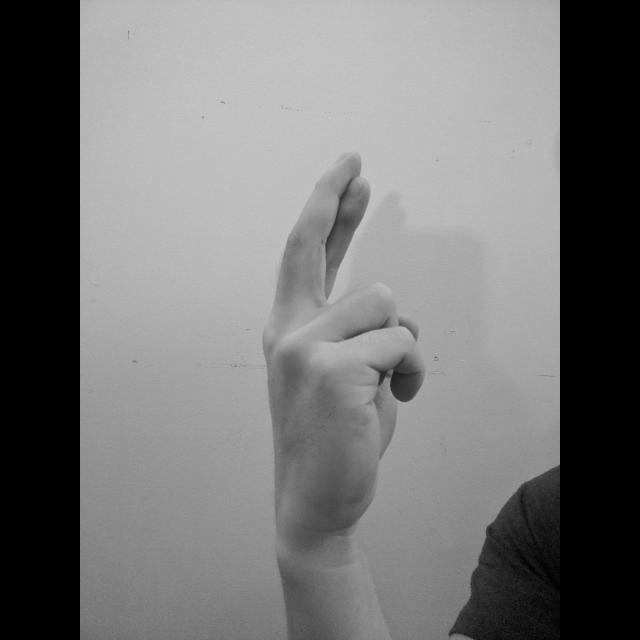R: (255, 144, 433, 540)
